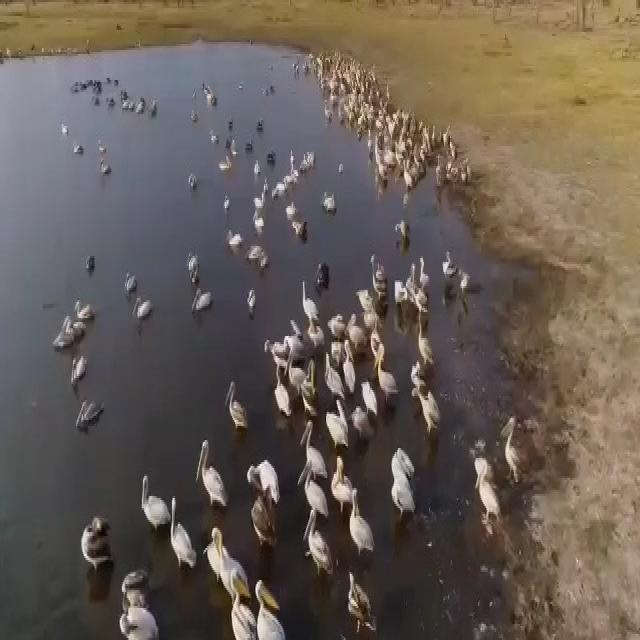Swan: (82, 510, 120, 580), (167, 493, 200, 573), (472, 453, 501, 544), (390, 447, 423, 525), (344, 493, 380, 564), (198, 442, 232, 516), (116, 590, 163, 640), (345, 286, 376, 359), (329, 76, 372, 126), (307, 506, 333, 585), (302, 419, 332, 486), (140, 475, 172, 537), (250, 485, 280, 551), (258, 325, 306, 366), (230, 566, 256, 640), (346, 570, 373, 640), (296, 458, 325, 522), (212, 527, 238, 598), (254, 579, 284, 640), (502, 414, 526, 490), (252, 453, 282, 504), (226, 370, 248, 437), (376, 353, 404, 405), (412, 362, 436, 421), (323, 347, 346, 405), (327, 406, 351, 460), (76, 393, 104, 439), (335, 447, 353, 518), (272, 368, 292, 423), (418, 315, 439, 366), (424, 383, 444, 435), (302, 273, 320, 326), (402, 139, 419, 193), (374, 144, 392, 192), (194, 285, 214, 327), (362, 382, 383, 422), (310, 59, 350, 80), (379, 93, 398, 137), (182, 157, 199, 206), (132, 296, 154, 332), (369, 257, 386, 302), (462, 265, 478, 312), (303, 363, 320, 407), (76, 296, 96, 332), (58, 319, 80, 351), (404, 259, 418, 308), (139, 90, 159, 124), (186, 252, 204, 289), (244, 280, 260, 319), (79, 245, 97, 279), (440, 242, 454, 285), (288, 223, 314, 245), (448, 146, 462, 186), (328, 316, 346, 347), (72, 352, 88, 384), (248, 243, 270, 266), (321, 193, 345, 213), (420, 258, 436, 288), (396, 218, 412, 248), (290, 150, 302, 187), (99, 158, 115, 182), (227, 234, 244, 256), (434, 152, 445, 186), (124, 272, 140, 295), (254, 190, 268, 215), (72, 139, 84, 168), (221, 152, 234, 178), (202, 92, 222, 108), (465, 165, 477, 188), (275, 183, 288, 203), (96, 139, 109, 156)
